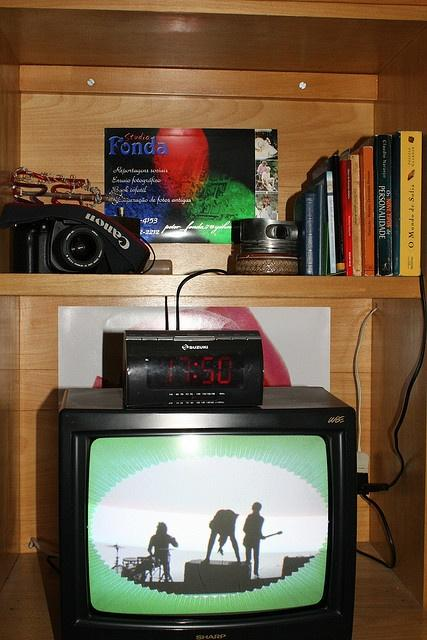AIO PC-Monitor-TV: (62, 412, 349, 639)
